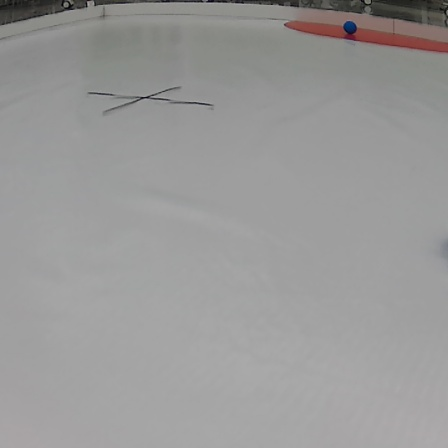blue: (342, 21, 359, 35)
red_base: (275, 19, 448, 54)
